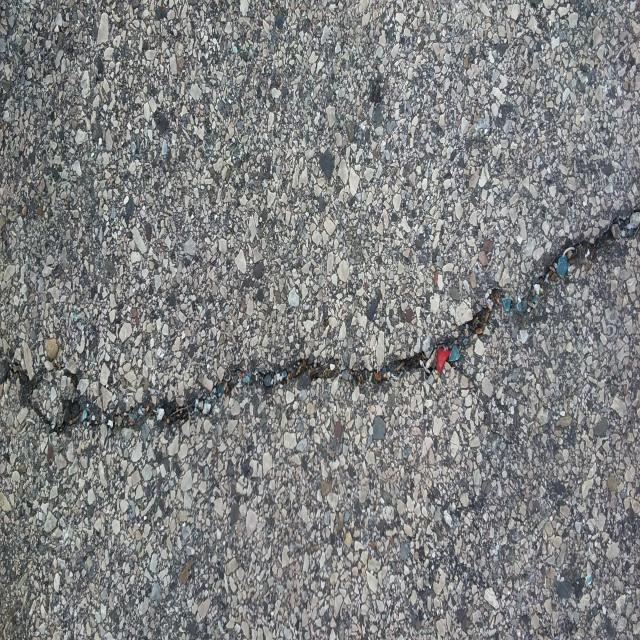transverse: (0, 190, 640, 452)
